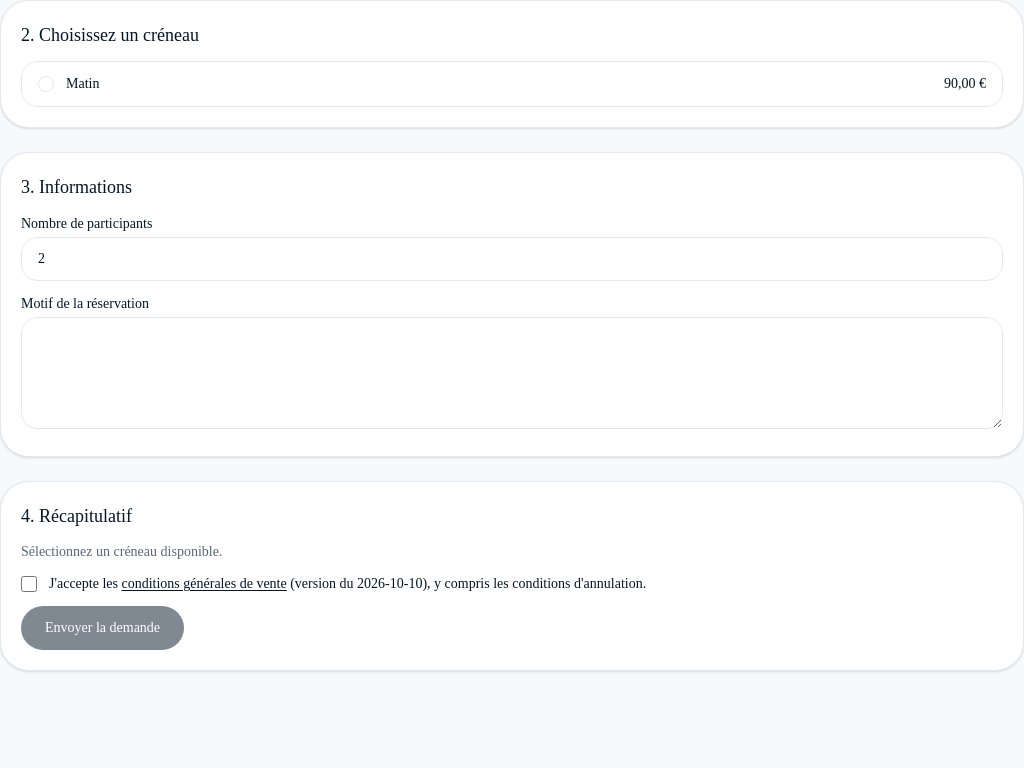
Scenario: BookingFunnel (B-11, UX-17) › shows the French date, the slot hours and the cancellation terms in the recap
The image size is (1024, 768).
Click the radio button at (46, 84), box [38,76,54,92]
(page scrolled)
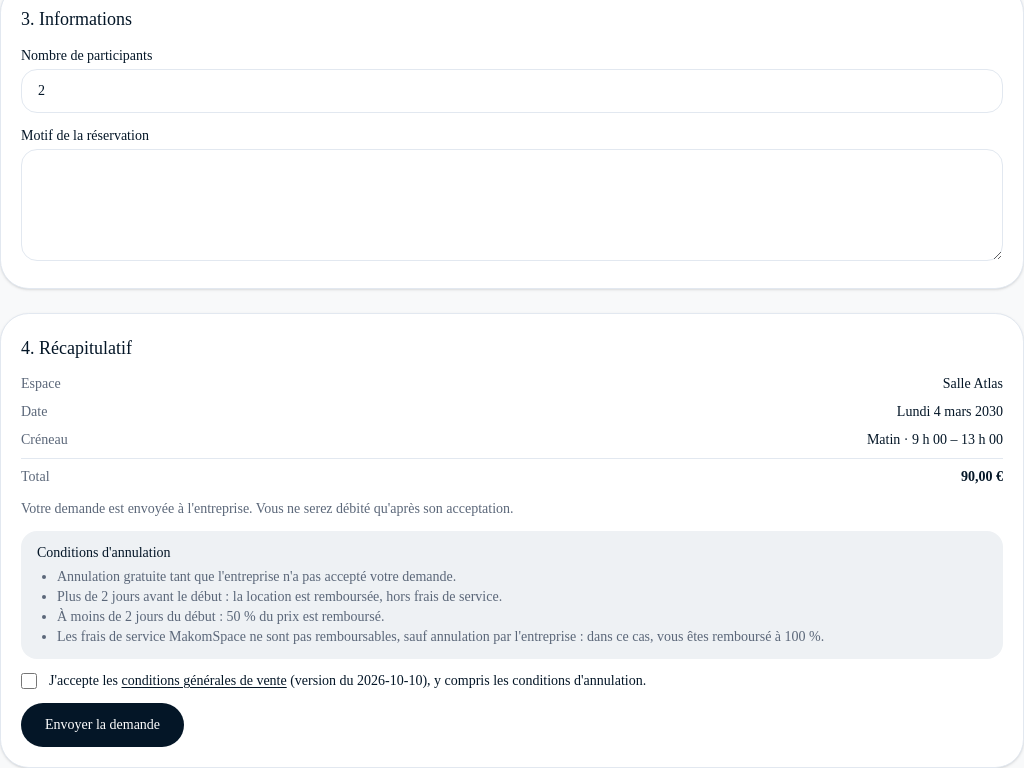
Expected: the text "lundi 4 mars 2030" is shown, [897,402,1003,422]
Expected: the text "Matin · 9 h 00 – 13 h 00" is shown, [867,430,1003,450]
Expected: the text "Conditions d'annulation" is shown, [37,545,171,560]
